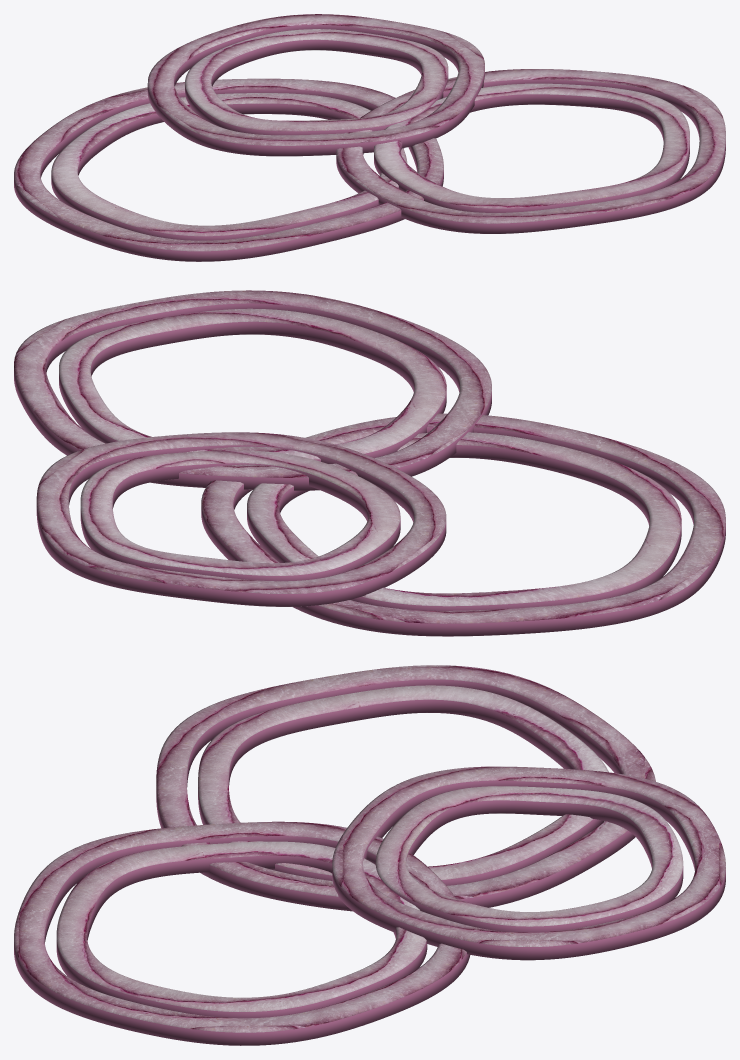
File: onion.glb
3 renders of one model, top to bottom at view 1: azimuth 30°, elevation 25°; view 2: azimuth 150°, elevation 25°; view 3: azimuth 270°, elevation 25°, orthographic. The views are drawn at different scales.
Parts seen in each view (by area): view 1: Red onion ring 0-0, Red onion ring 1-0, Red onion ring 2-0, Red onion ring 1-1, Red onion ring 0-1, Red onion ring 2-1; view 2: Red onion ring 0-0, Red onion ring 2-0, Red onion ring 1-0, Red onion ring 0-1, Red onion ring 1-1, Red onion ring 2-1; view 3: Red onion ring 1-0, Red onion ring 0-0, Red onion ring 2-0, Red onion ring 0-1, Red onion ring 1-1, Red onion ring 2-1.
Part boxes in pixels (bbox=[...]): Red onion ring 0-0: bbox=[14, 78, 443, 261]; Red onion ring 1-0: bbox=[336, 69, 725, 233]; Red onion ring 2-0: bbox=[147, 14, 484, 156]; Red onion ring 1-1: bbox=[374, 83, 689, 212]; Red onion ring 0-1: bbox=[51, 93, 407, 240]; Red onion ring 2-1: bbox=[185, 29, 448, 135]; Red onion ring 0-0: bbox=[201, 413, 725, 636]; Red onion ring 2-0: bbox=[36, 432, 446, 606]; Red onion ring 1-0: bbox=[14, 290, 491, 490]; Red onion ring 0-1: bbox=[247, 432, 681, 610]; Red onion ring 1-1: bbox=[59, 308, 446, 461]; Red onion ring 2-1: bbox=[80, 450, 400, 581]; Red onion ring 1-0: bbox=[14, 821, 470, 1045]; Red onion ring 0-0: bbox=[156, 665, 655, 911]; Red onion ring 2-0: bbox=[332, 766, 725, 960]; Red onion ring 0-1: bbox=[198, 685, 608, 885]; Red onion ring 1-1: bbox=[56, 841, 427, 1018]; Red onion ring 2-1: bbox=[375, 786, 683, 932].
Bounding box in the file's own units: 1.77 × 0.076 × 1.42.
Materials: 2 (1 with a texture image).
